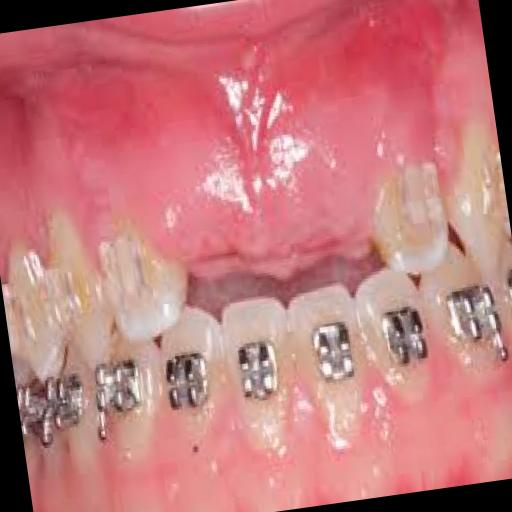correct_brace: (228, 326, 290, 416), (376, 298, 432, 380), (306, 314, 360, 394), (160, 350, 218, 421)
incorrect_brace: (150, 298, 238, 466), (352, 268, 440, 413)
